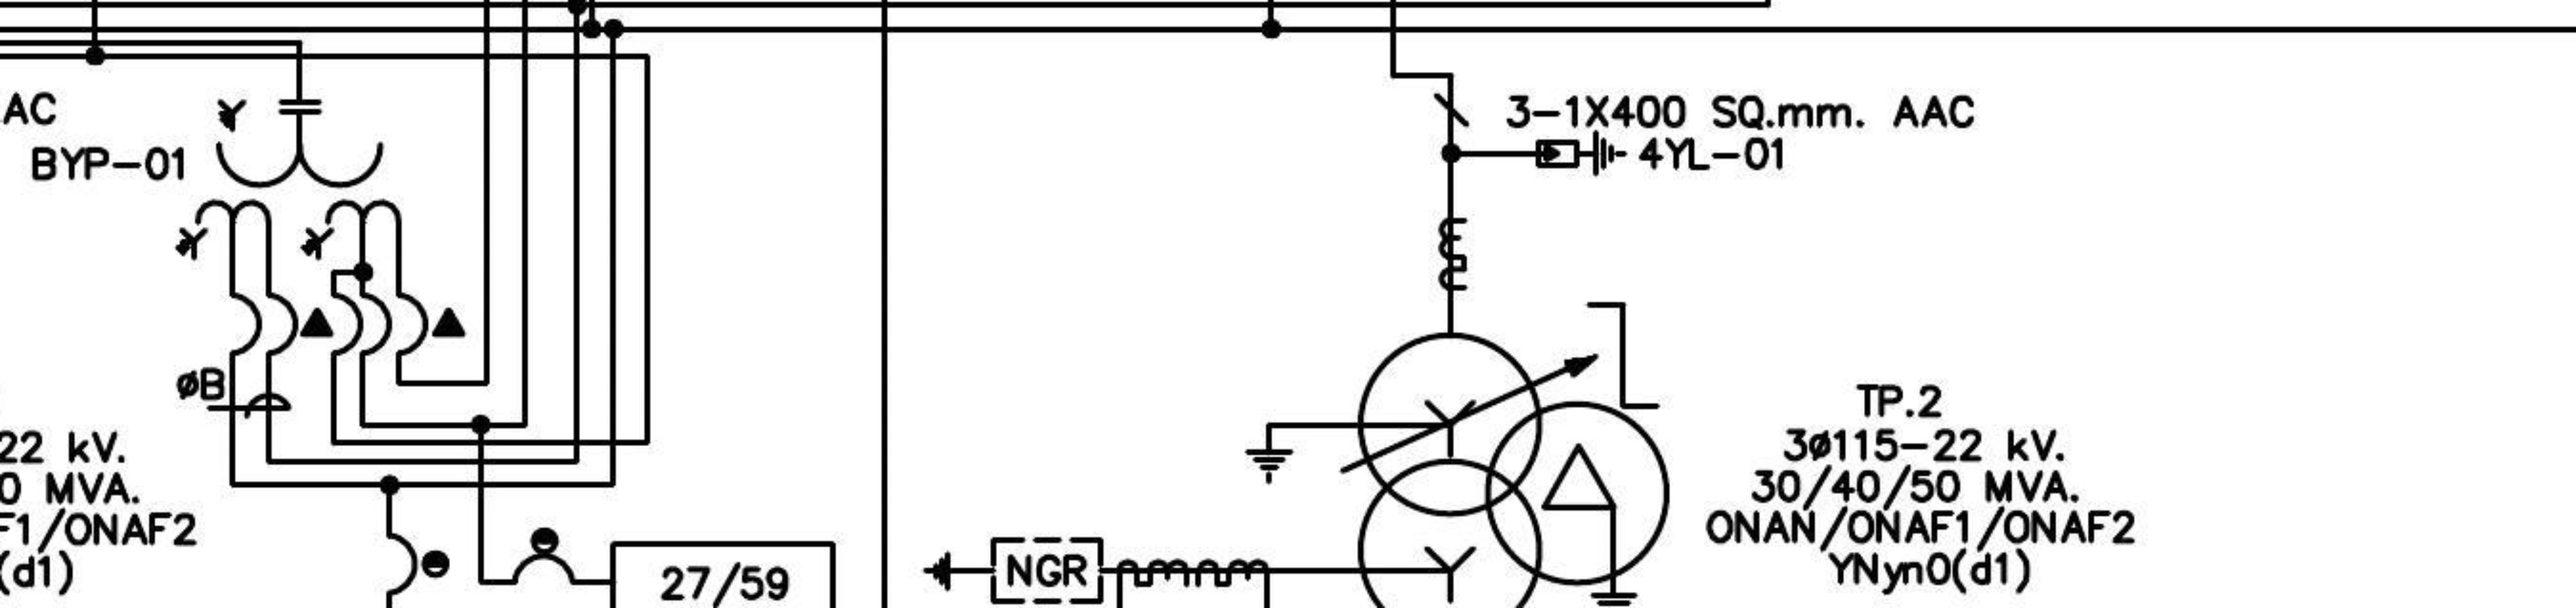115_cvt_3p: (172, 99, 402, 263)
115_la: (1536, 128, 1630, 177)
NGR_future: (922, 536, 1104, 605)
